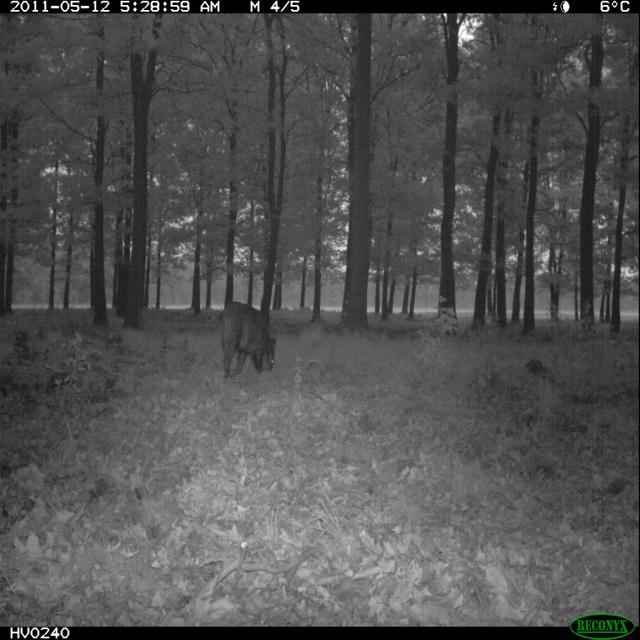boar: (199, 301, 296, 398)
